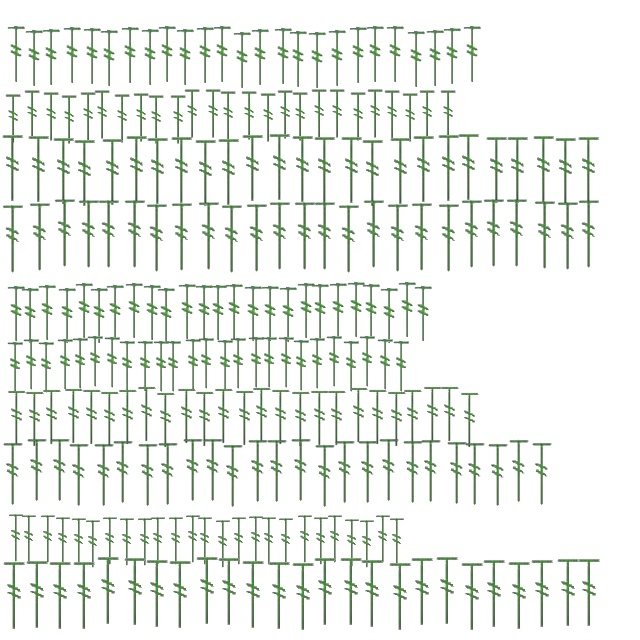fan: (122, 556, 150, 628), (144, 558, 172, 630), (216, 556, 244, 628), (266, 560, 294, 632), (312, 556, 340, 628), (338, 556, 366, 628), (506, 560, 534, 632), (24, 560, 52, 630), (194, 556, 222, 626), (240, 560, 268, 630), (290, 562, 318, 632), (434, 556, 462, 626), (576, 558, 604, 628), (0, 202, 26, 276), (27, 200, 53, 274), (52, 196, 78, 270), (76, 197, 102, 271), (96, 197, 122, 271), (122, 197, 148, 271), (144, 201, 170, 275), (169, 200, 195, 274), (196, 199, 222, 273), (219, 202, 245, 276), (244, 201, 270, 275), (267, 199, 293, 273), (292, 199, 318, 273), (312, 199, 338, 273), (336, 202, 362, 276), (361, 197, 387, 271), (385, 201, 411, 275), (409, 200, 435, 274), (436, 201, 462, 275), (459, 197, 485, 271), (481, 196, 507, 270), (504, 196, 530, 270), (532, 198, 558, 272), (555, 199, 581, 273), (576, 197, 602, 271), (2, 560, 28, 632), (48, 560, 74, 632), (72, 560, 98, 632), (360, 558, 386, 630), (410, 556, 436, 628), (482, 558, 508, 630), (530, 558, 556, 630), (0, 133, 26, 203), (26, 134, 52, 204), (51, 136, 77, 206), (72, 138, 98, 208), (100, 137, 126, 207), (124, 134, 150, 204), (145, 136, 171, 206), (169, 135, 195, 205), (193, 138, 219, 208), (216, 137, 242, 207), (240, 133, 266, 203), (267, 132, 293, 202), (290, 134, 316, 204), (312, 135, 338, 205), (339, 135, 365, 205), (360, 138, 386, 208), (388, 136, 414, 206), (411, 134, 437, 204), (436, 133, 462, 203), (456, 132, 482, 202), (484, 135, 510, 205), (505, 135, 531, 205), (531, 134, 557, 204), (553, 136, 579, 206), (576, 135, 602, 205), (96, 556, 122, 626), (168, 560, 194, 630), (388, 562, 414, 632), (460, 562, 486, 632), (556, 558, 582, 628), (1, 440, 25, 508), (25, 436, 49, 504), (48, 436, 72, 504), (67, 441, 91, 509), (92, 441, 116, 509), (111, 438, 135, 506), (136, 441, 160, 509), (156, 440, 180, 508), (181, 436, 205, 504), (201, 436, 225, 504), (221, 442, 245, 510), (246, 437, 270, 505), (265, 437, 289, 505), (289, 436, 313, 504), (313, 442, 337, 510), (333, 438, 357, 506), (356, 438, 380, 506), (377, 436, 401, 504), (401, 438, 425, 506), (419, 437, 443, 505), (445, 439, 469, 507), (463, 440, 487, 508), (486, 441, 510, 509), (507, 437, 531, 505), (530, 440, 554, 508), (6, 389, 28, 447), (24, 390, 46, 448), (41, 388, 63, 446), (63, 387, 85, 445), (81, 388, 103, 446), (99, 390, 121, 448), (117, 388, 139, 446), (136, 385, 158, 443), (155, 391, 177, 449), (176, 387, 198, 445), (194, 390, 216, 448), (213, 387, 235, 445), (234, 389, 256, 447), (251, 386, 273, 444), (270, 388, 292, 446), (290, 390, 312, 448), (309, 389, 331, 447), (326, 389, 348, 447), (348, 386, 370, 444), (367, 388, 389, 446), (386, 390, 408, 448), (402, 388, 424, 446), (422, 385, 444, 443), (439, 385, 461, 443), (459, 391, 481, 449), (41, 28, 61, 88), (62, 26, 82, 86), (120, 26, 140, 86), (140, 28, 160, 88), (175, 28, 195, 88), (195, 26, 215, 86), (250, 28, 270, 88), (288, 30, 308, 90), (348, 26, 368, 86), (406, 30, 426, 90), (6, 26, 26, 84), (24, 30, 44, 88), (82, 28, 102, 86), (99, 30, 119, 88), (157, 26, 177, 84), (212, 26, 232, 84), (232, 32, 252, 90), (273, 28, 293, 86), (307, 32, 327, 90), (327, 30, 347, 88), (365, 26, 385, 84), (385, 26, 405, 84), (425, 30, 445, 88), (442, 28, 462, 86), (462, 26, 482, 84), (6, 285, 26, 343), (20, 287, 40, 345), (37, 284, 57, 342), (57, 287, 77, 345), (74, 282, 94, 340), (89, 287, 109, 345), (105, 284, 125, 342), (124, 282, 144, 340), (142, 284, 162, 342), (156, 287, 176, 345), (177, 283, 197, 341), (194, 284, 214, 342), (208, 284, 228, 342), (224, 283, 244, 341), (243, 285, 263, 343), (260, 285, 280, 343), (278, 286, 298, 344), (296, 282, 316, 340), (310, 283, 330, 341), (328, 282, 348, 340), (346, 281, 366, 339), (361, 283, 381, 341), (379, 287, 399, 345), (397, 281, 417, 339), (413, 285, 433, 343), (60, 94, 80, 146), (132, 92, 152, 144), (204, 88, 224, 140), (240, 90, 260, 142), (310, 88, 330, 140), (328, 88, 348, 140), (366, 88, 386, 140), (4, 94, 24, 144), (42, 92, 62, 142), (276, 90, 296, 140), (418, 90, 438, 140), (22, 338, 40, 392), (56, 338, 74, 392), (103, 336, 121, 390), (118, 340, 136, 394), (136, 340, 154, 394), (152, 340, 170, 394), (164, 340, 182, 394), (184, 338, 202, 392), (247, 336, 265, 390), (260, 336, 278, 390), (277, 336, 295, 390), (342, 340, 360, 394), (376, 338, 394, 392), (392, 340, 410, 394), (148, 94, 166, 146), (170, 94, 188, 146), (184, 88, 202, 140), (220, 90, 238, 142), (260, 92, 278, 144), (402, 92, 420, 144), (6, 342, 24, 394), (37, 342, 55, 394), (71, 338, 89, 390), (86, 336, 104, 388), (197, 338, 215, 390), (216, 340, 234, 392), (229, 338, 247, 390), (292, 340, 310, 392), (308, 338, 326, 390), (325, 336, 343, 388), (358, 336, 376, 388), (7, 512, 25, 564), (20, 513, 38, 565), (39, 513, 57, 565), (54, 515, 72, 567), (70, 516, 88, 568), (84, 518, 102, 570), (101, 515, 119, 567), (118, 516, 136, 568), (136, 516, 154, 568), (149, 515, 167, 567), (167, 515, 185, 567), (184, 513, 202, 565), (196, 515, 214, 567), (214, 518, 232, 570), (230, 515, 248, 567), (247, 514, 265, 566), (260, 515, 278, 567), (277, 516, 295, 568), (296, 513, 314, 565), (312, 515, 330, 567), (326, 513, 344, 565), (343, 517, 361, 569), (358, 518, 376, 570), (374, 513, 392, 565), (388, 516, 406, 568), (24, 90, 42, 140), (80, 92, 98, 142), (94, 90, 112, 140), (114, 94, 132, 144), (292, 92, 310, 142), (350, 92, 368, 142), (384, 90, 402, 140), (440, 90, 458, 140)
